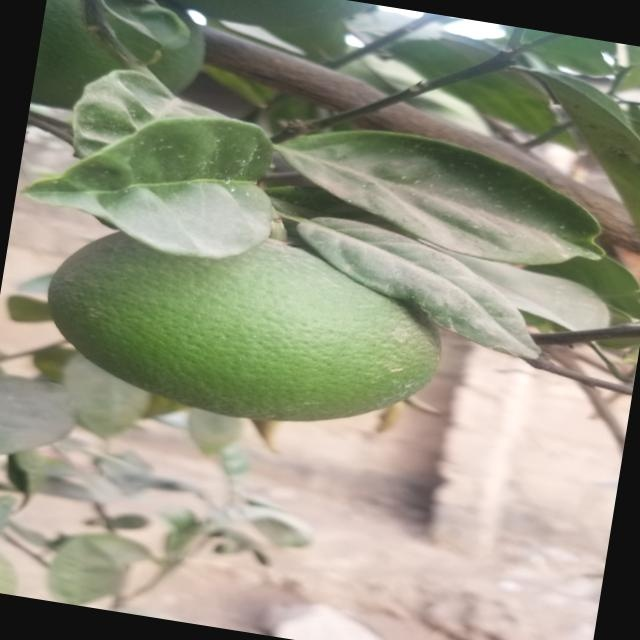agrume: (38, 210, 447, 449)
